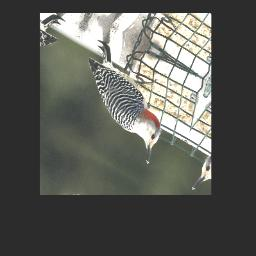Woodpecker: (63, 38, 183, 165)
